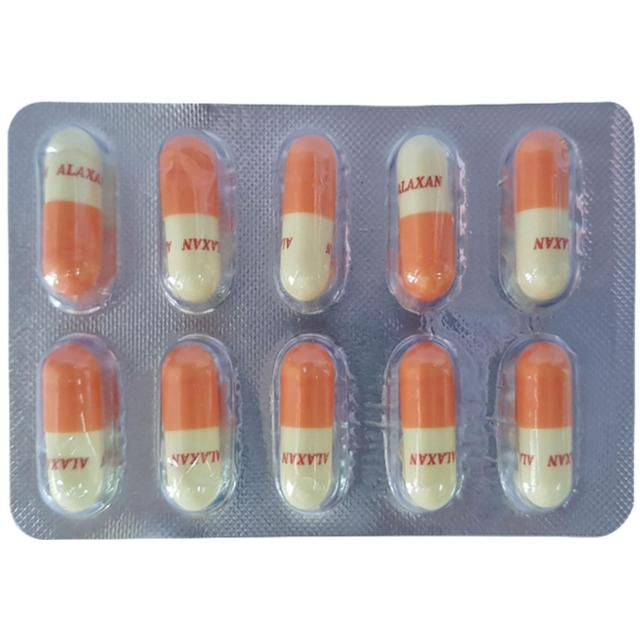blister: (5, 96, 638, 542)
